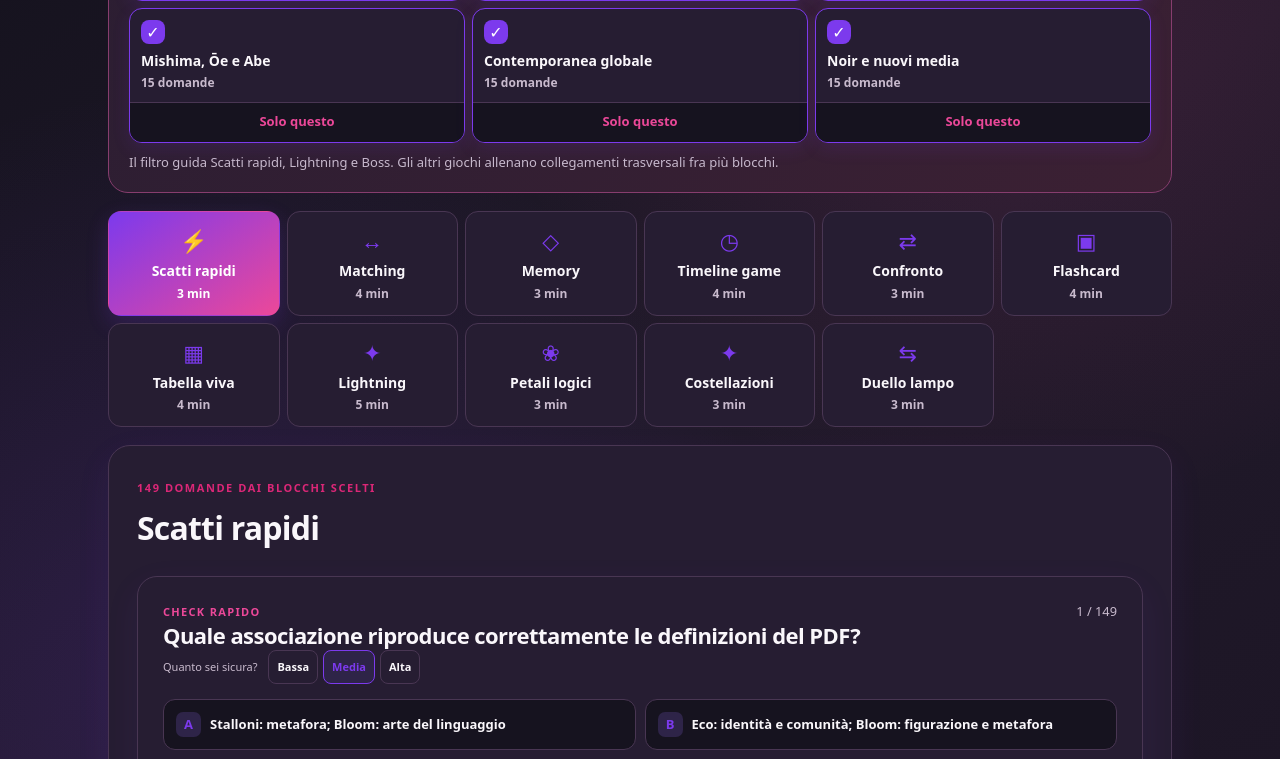
Test: palestra zero attrito › fa costruire una catena causale con i petali senza digitare
(page scrolled)
Click the button "❀ Petali logici 3 min".
click(551, 375)  # box [465,323,636,427]
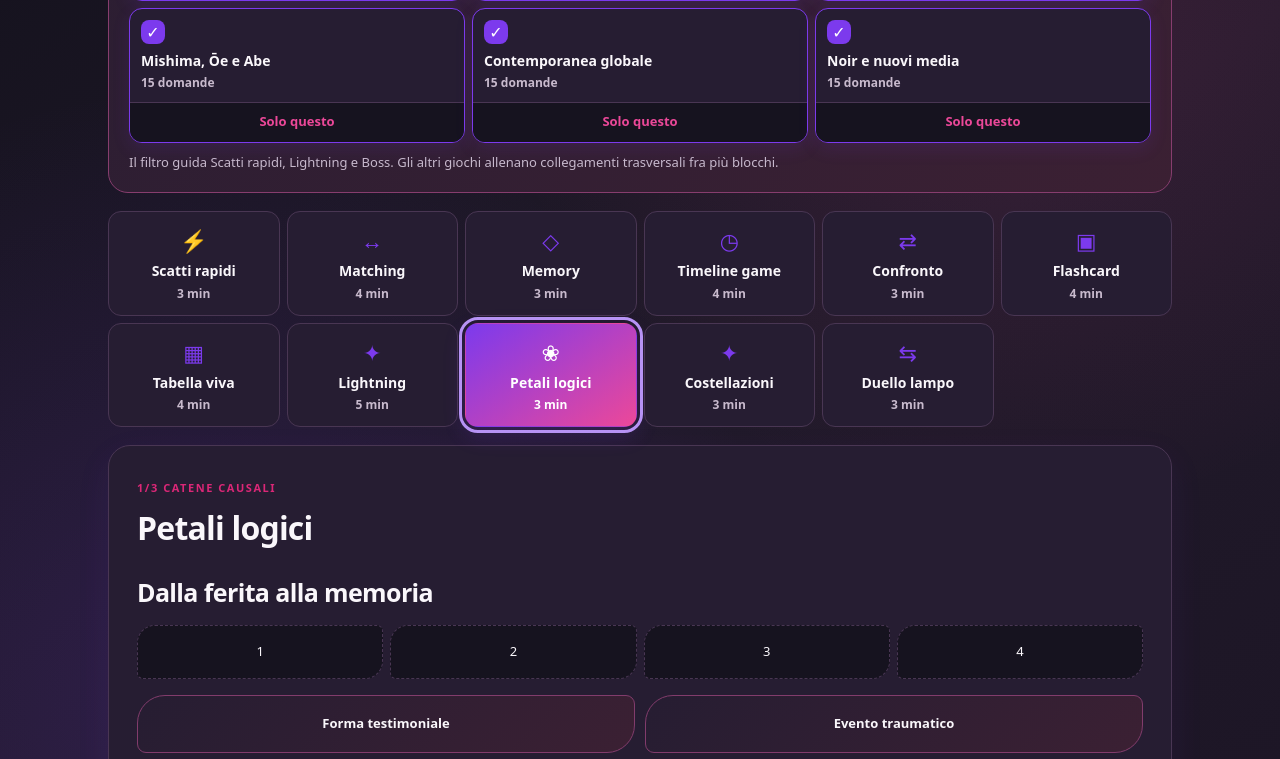
Click the button "Evento traumatico".
click(894, 724)  # box [645,695,1143,753]
(page scrolled)
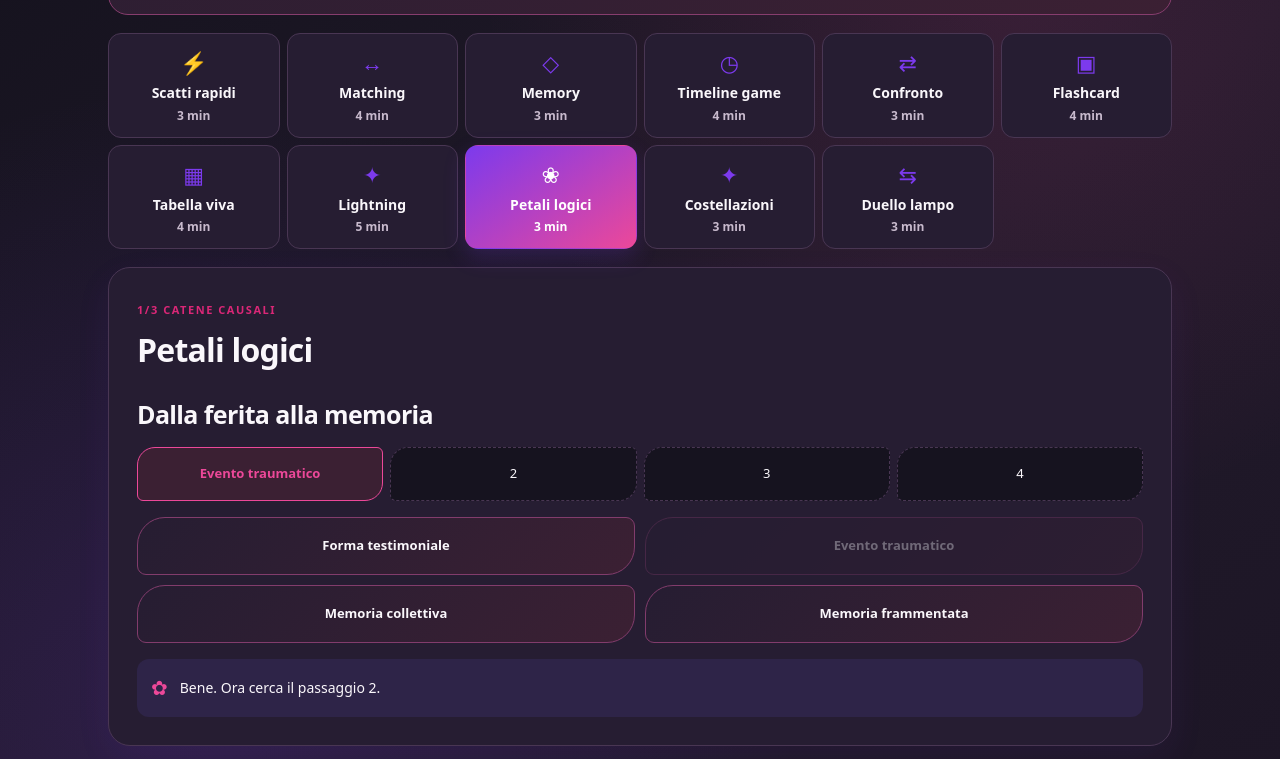
Check: the text "Bene. Ora cerca il passaggio 2." is shown, box [180,677,380,698]
